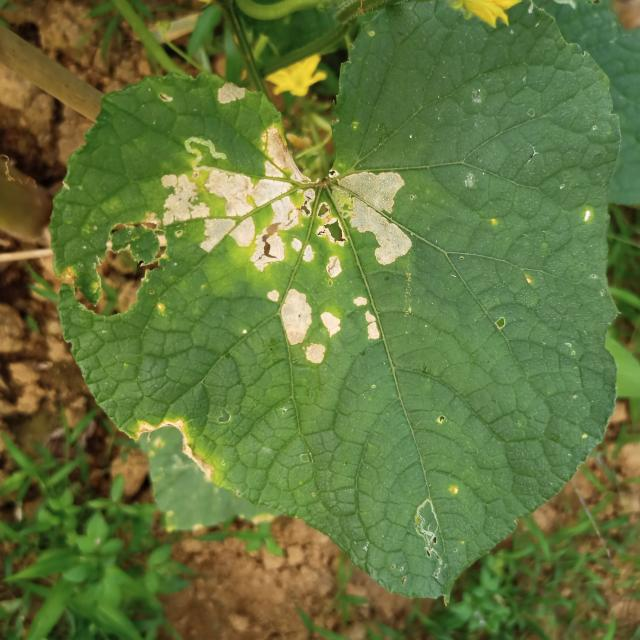disease_cucumber: (163, 125, 421, 371)
